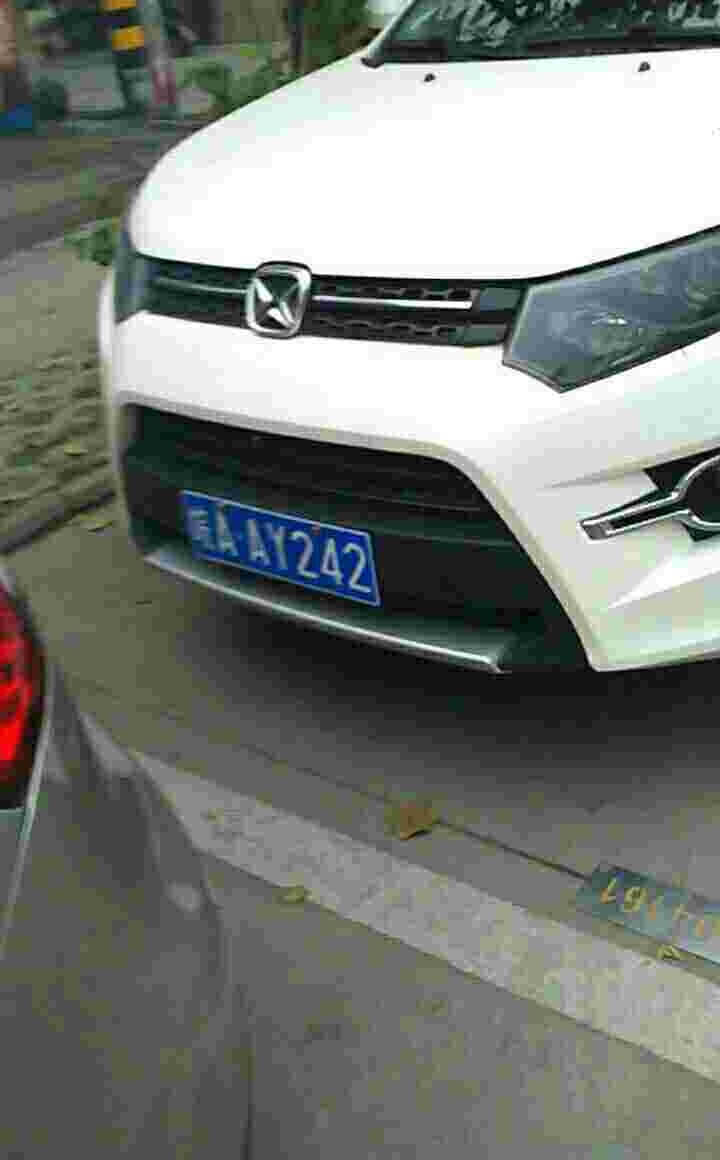license_plate: (185, 492, 384, 604)
